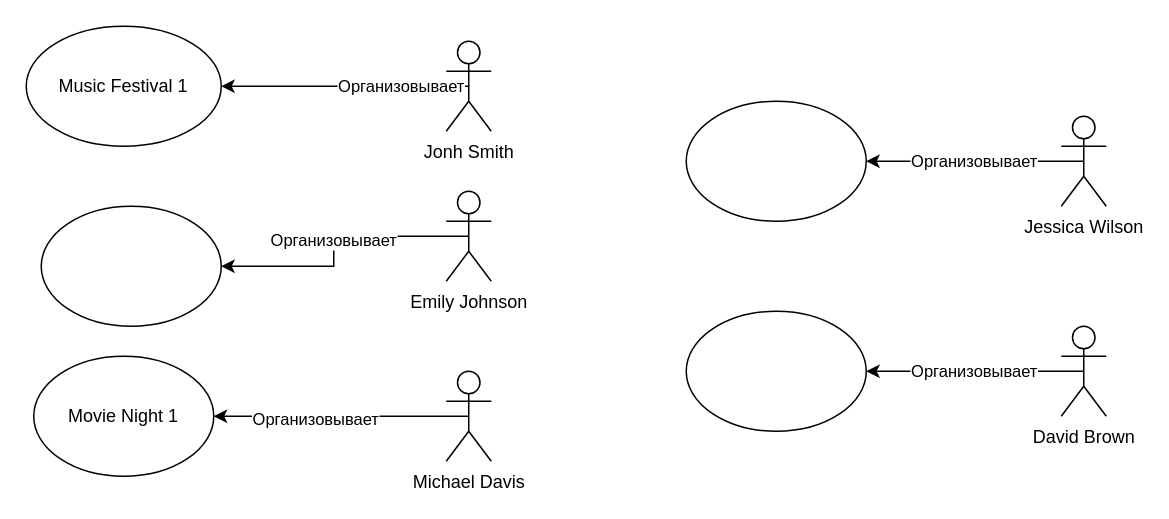
Some shapes in this 1169 by 519 pixel diagram are drawn without their labels. The centre of each missing label's shape, as x and y in pixels:
"Art Exhibition 1" goes at [775,370].
"Conference 1" goes at [130,265].
"Sports Event 1" goes at [775,160].
